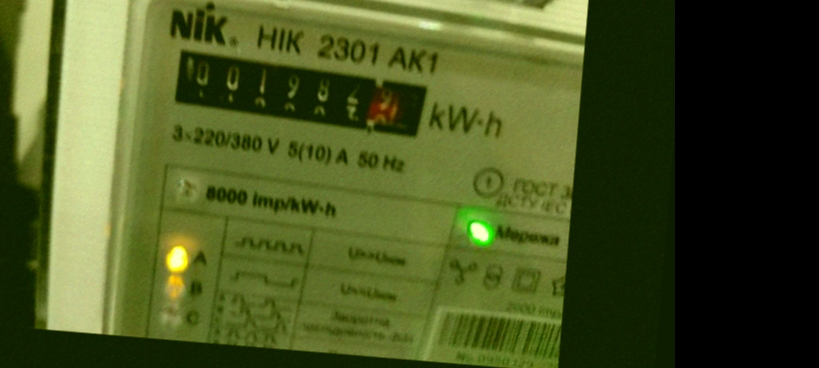0: (223, 62, 242, 93), (193, 57, 211, 87)
1: (255, 65, 269, 95)
2: (344, 76, 364, 106)
8: (314, 74, 332, 103)
9: (375, 84, 397, 114), (283, 70, 301, 101)
screen: (155, 34, 443, 153)
